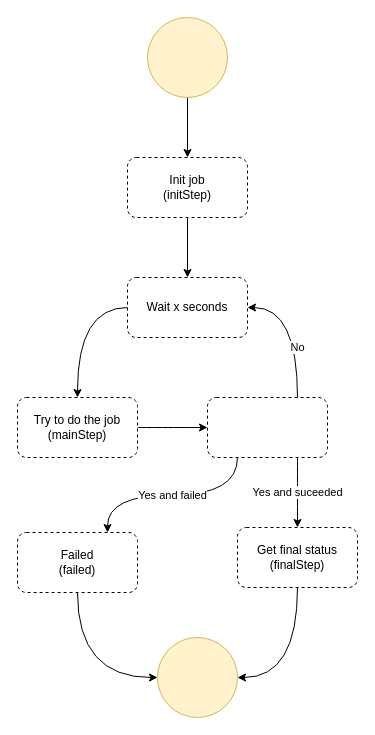
This 375x735 diagram has some shape labels left out. Here are the shapes that lost their labels. From the top down, the centre of each, then its label:
At pixel 187 57: "Start".
At pixel 267 427: "Is done? (sfn.Choice)".
At pixel 197 677: "End".
